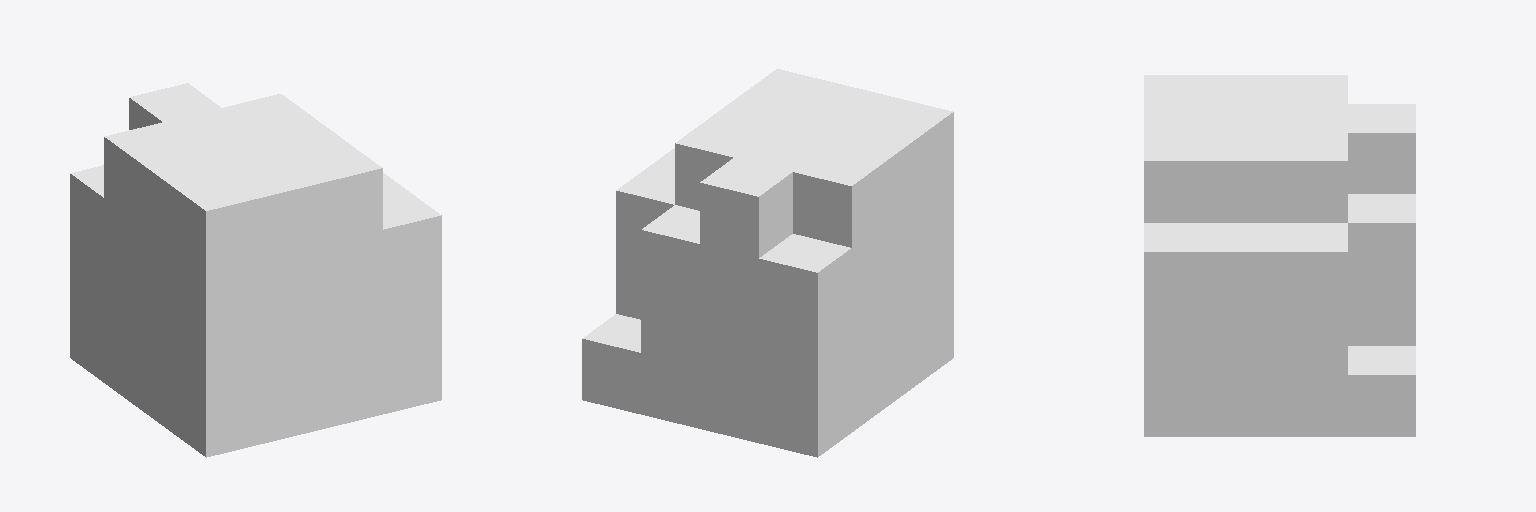
File: gold_ore.obj
The picture shows the model from 3 angles: view 1: azimuth 30°, elevation 25°; view 2: azimuth 150°, elevation 25°; view 3: azimuth 270°, elevation 25°; orthographic projection.
Visible parts, largest first — view 1: object 1; view 2: object 1; view 3: object 1.
Boxes of the visible parts, <box> form: object 1: <box>70,83,441,457</box>; object 1: <box>582,69,953,457</box>; object 1: <box>1144,75,1415,436</box>.
Bounding box in the file's own units: 0.4 × 0.4 × 0.4.